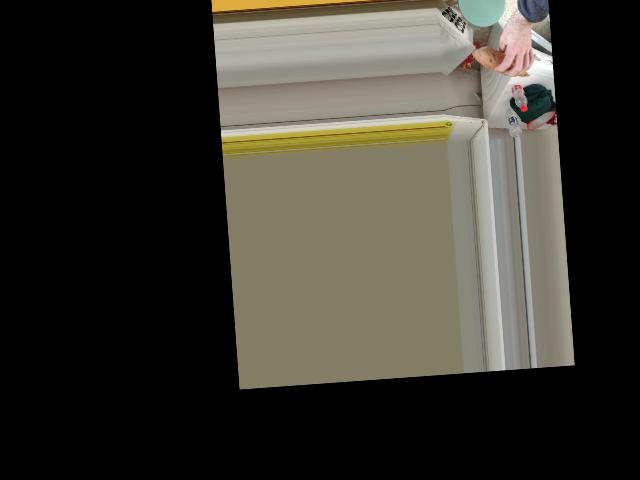sweet_potato: (474, 44, 532, 80)
